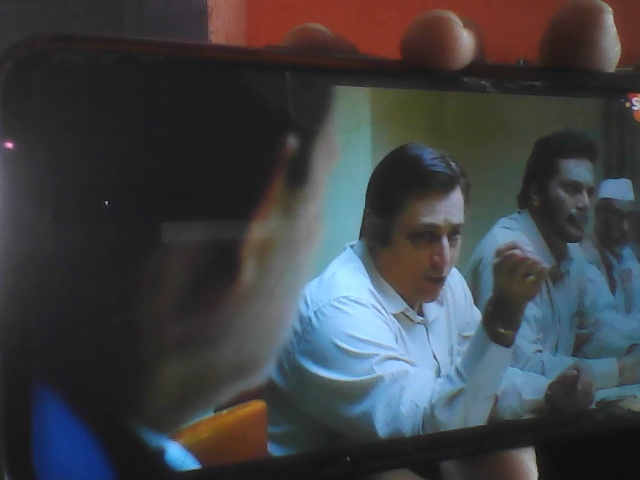fake: (363, 157, 471, 310)
